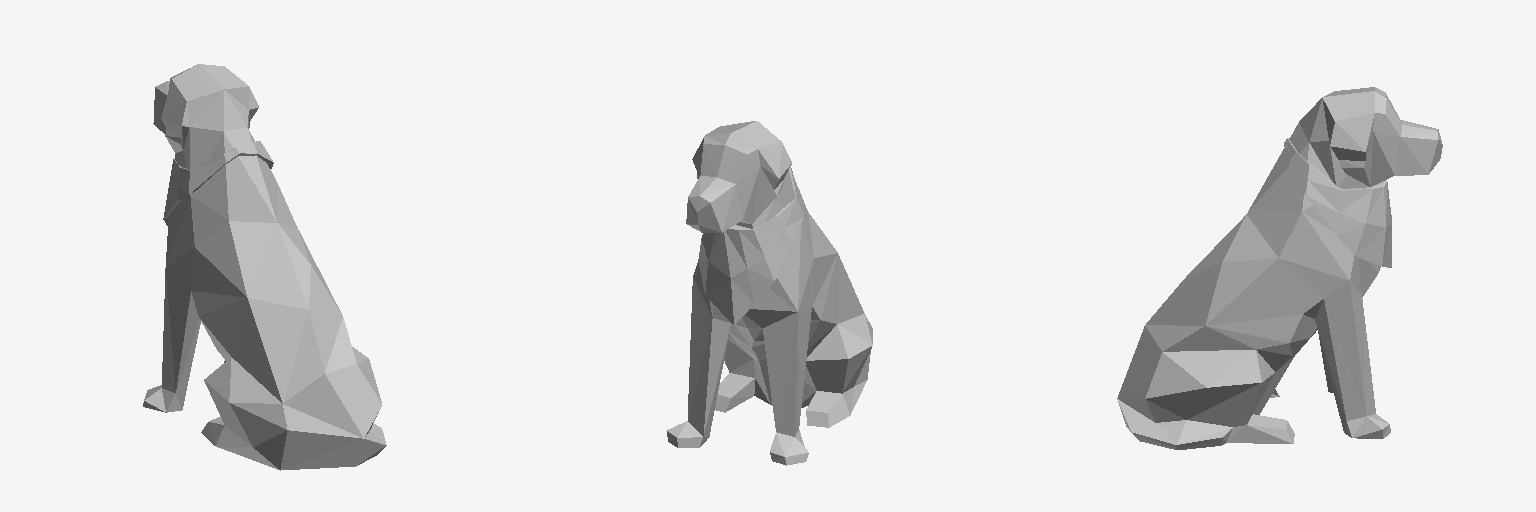
Rendered from MATAPACOS.obj.
3 views of the same model, side by side, from view 1: azimuth 30°, elevation 25°; view 2: azimuth 150°, elevation 25°; view 3: azimuth 270°, elevation 25° (orthographic).
Visible parts, largest first — view 1: MATAPACO002, BANDANA; view 2: MATAPACO002, BANDANA; view 3: MATAPACO002, BANDANA.
Part boxes in pixels (x1,y1,x2,y2): MATAPACO002: (143,64,386,470); BANDANA: (163,141,273,225); MATAPACO002: (666,121,872,465); BANDANA: (698,166,803,325); MATAPACO002: (1117,87,1442,449); BANDANA: (1284,138,1391,267).
Size of the model in its own units: 4.94 by 9.86 by 9.1.